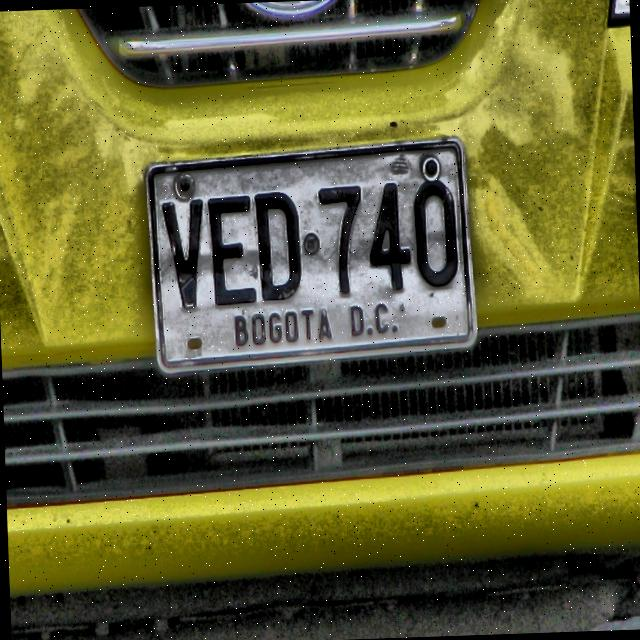plate: (144, 137, 476, 375)
